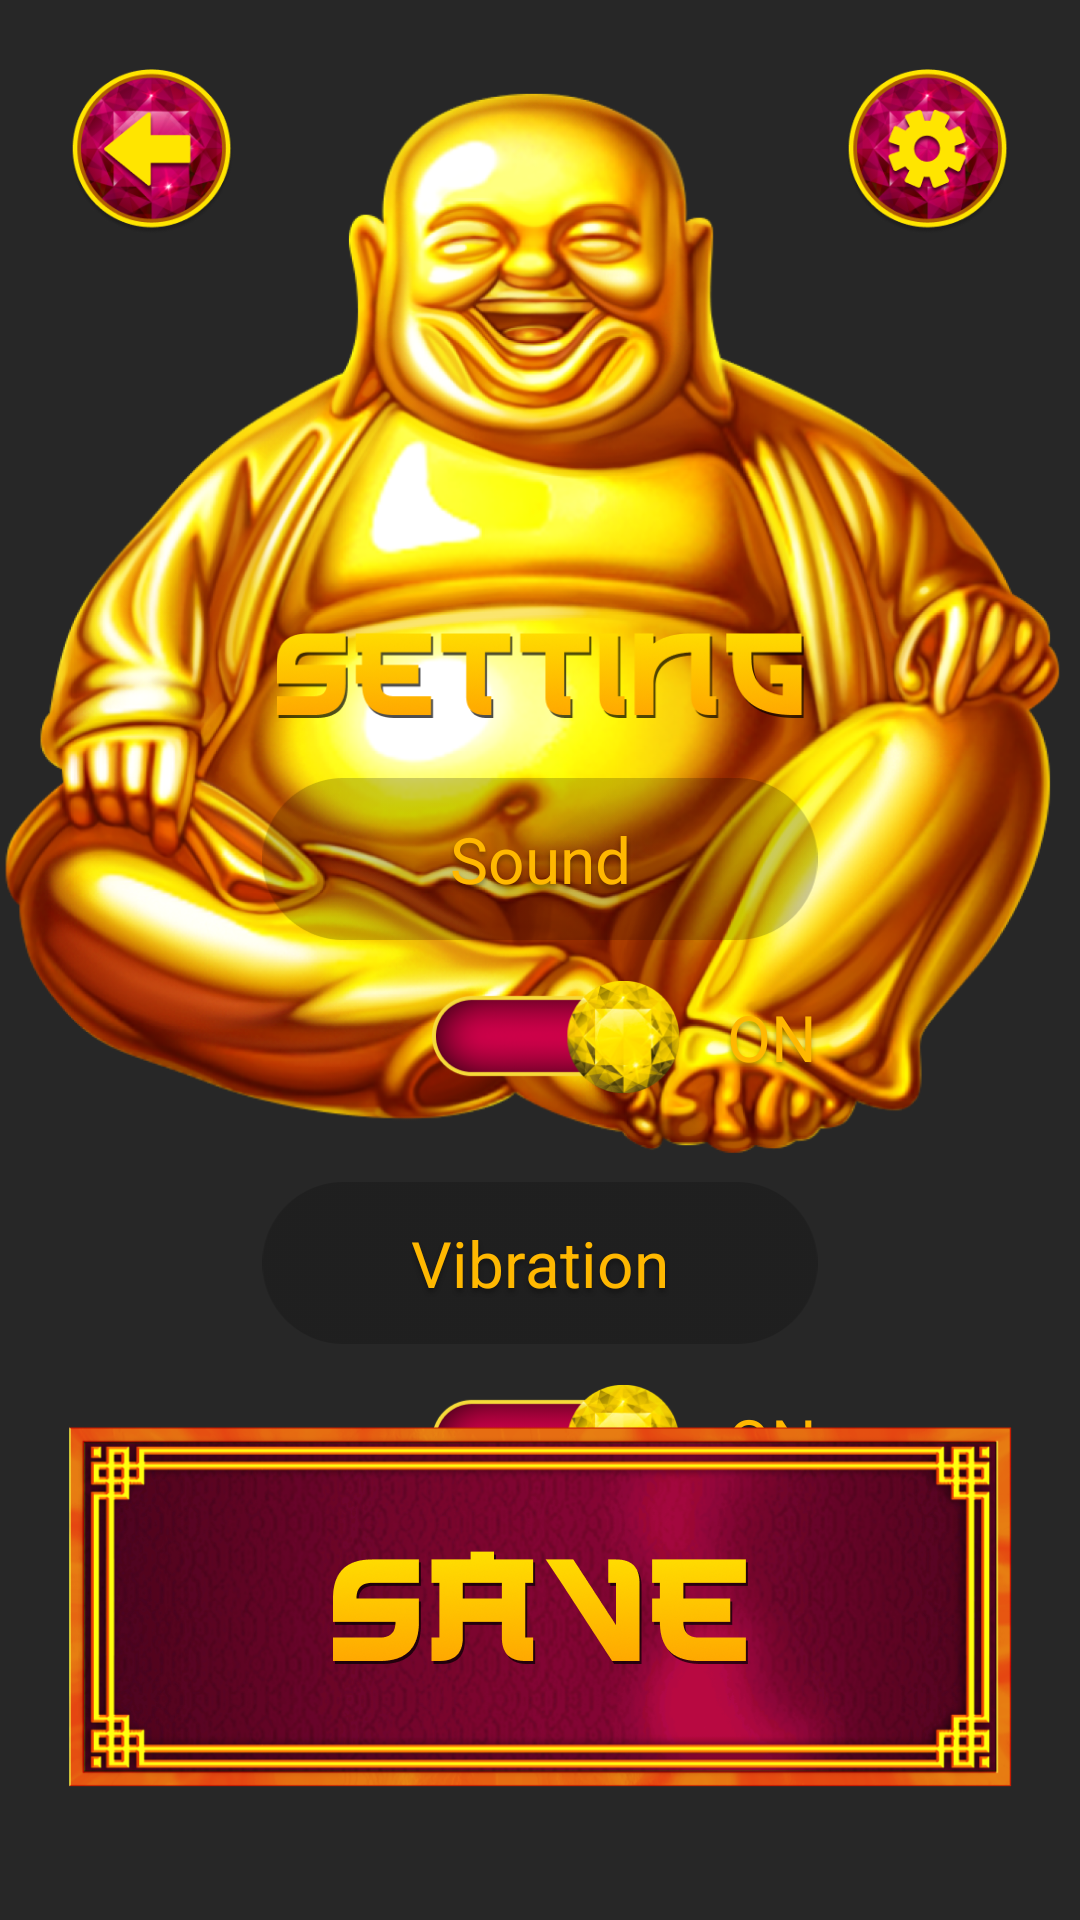

Icon bounding boxes for this 1080 × 1920 phone screenshot, format [x1,y1,x2,y2]:
back: [72,69,231,228]
settings: [848,69,1007,228]
